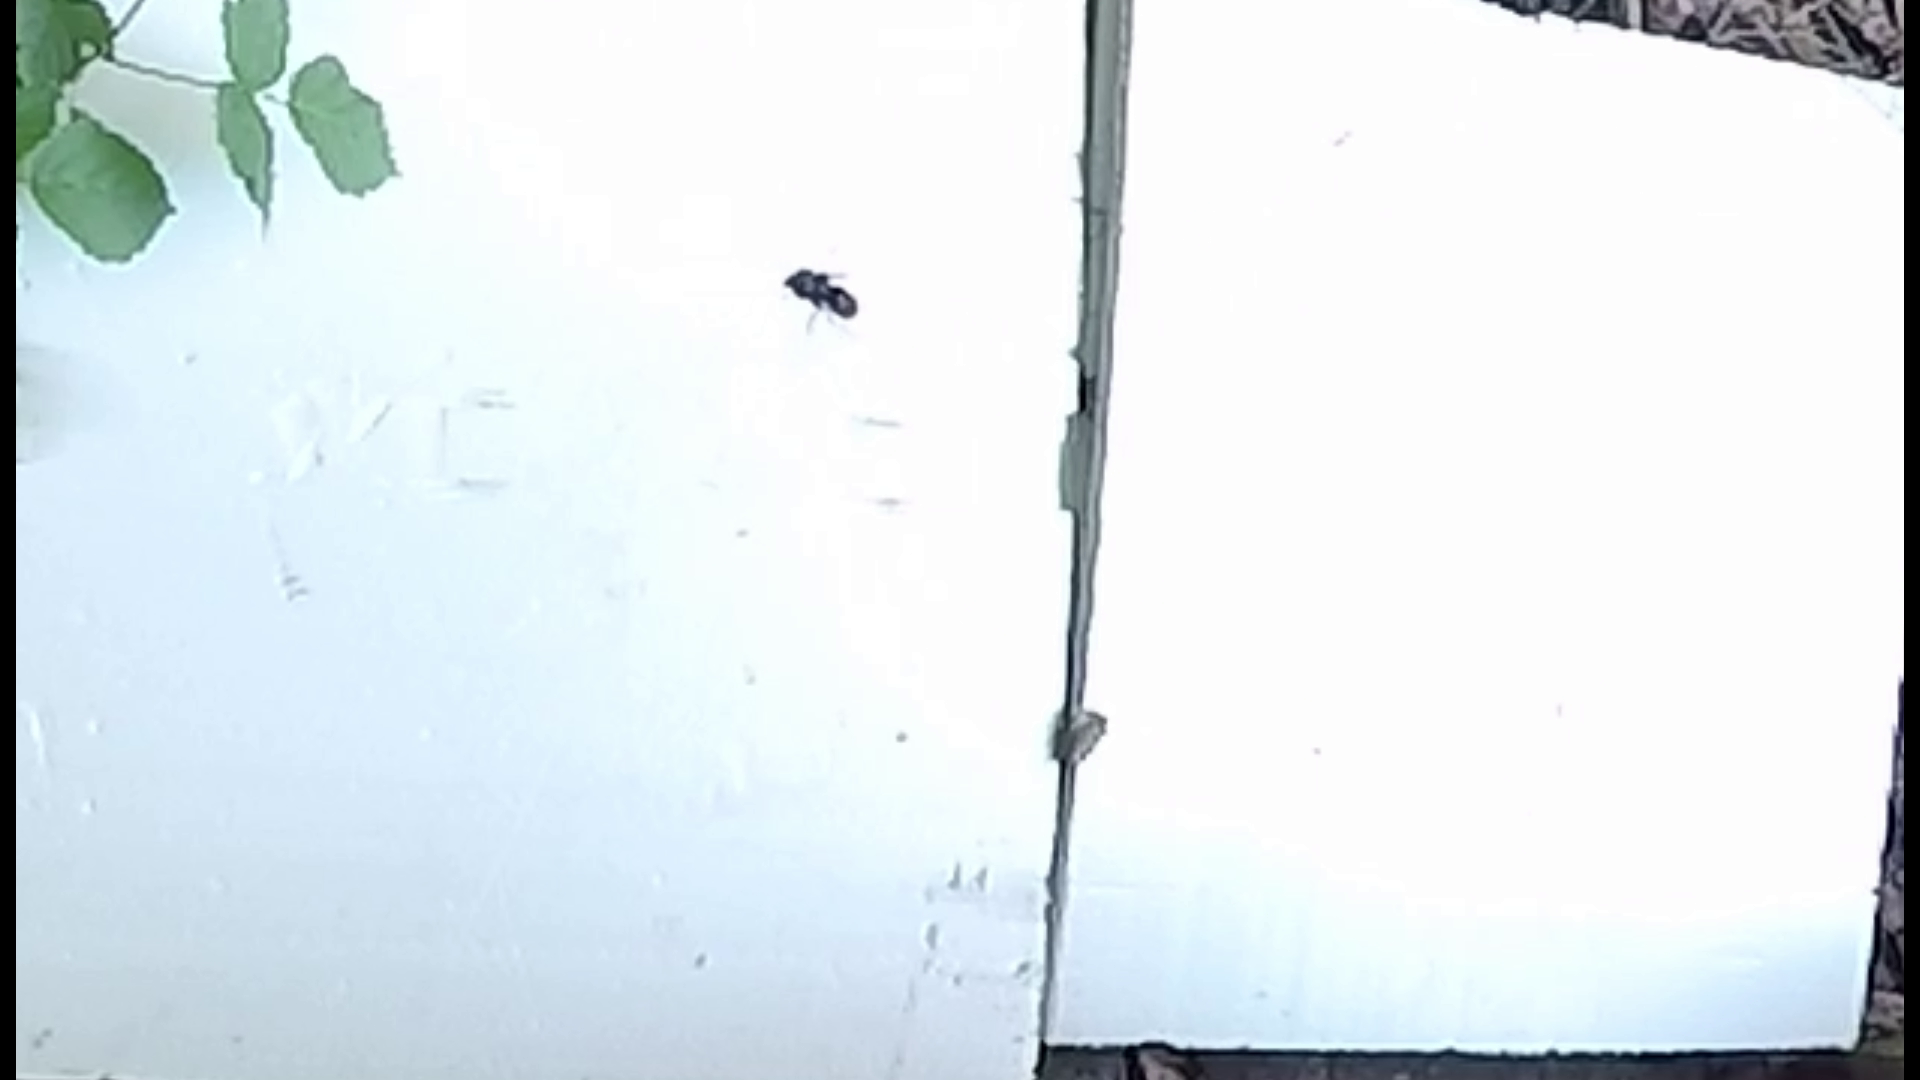Asian_hornets: (765, 239, 881, 356)
